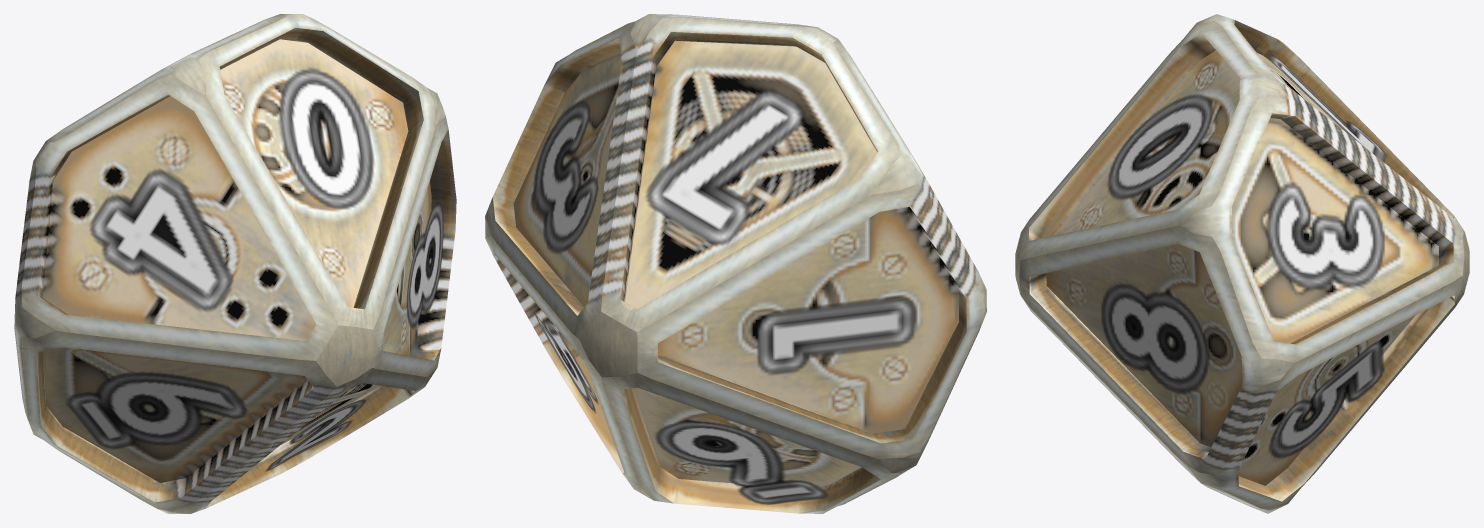
3 renders of one model, left to right at view 1: azimuth 30°, elevation 25°; view 2: azimuth 150°, elevation 25°; view 3: azimuth 270°, elevation 25°, orthographic. The views are drawn at different scales.
Visible parts, largest first — view 1: D10, D10_Numbers; view 2: D10, D10_Numbers; view 3: D10, D10_Numbers.
Part boxes in pixels (left/top/right/bottom): D10: left=14, top=14, right=456, bottom=513; D10_Numbers: left=66, top=68, right=443, bottom=471; D10: left=485, top=14, right=986, bottom=513; D10_Numbers: left=533, top=89, right=916, bottom=504; D10: left=1015, top=14, right=1469, bottom=513; D10_Numbers: left=1101, top=54, right=1386, bottom=458.
Size of the model in its own units: 2.06 by 1.97 by 1.85.
Materials: 2 (2 with a texture image).
